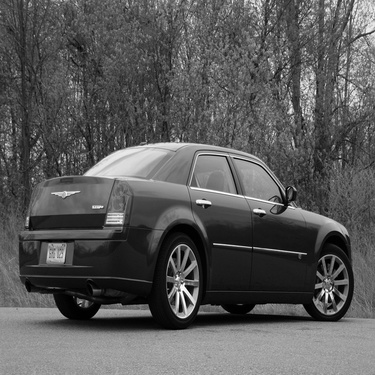car: (10, 139, 357, 331)
